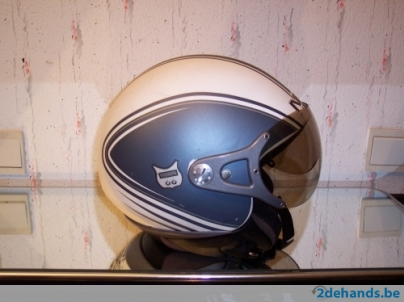helmet: (99, 57, 316, 245)
